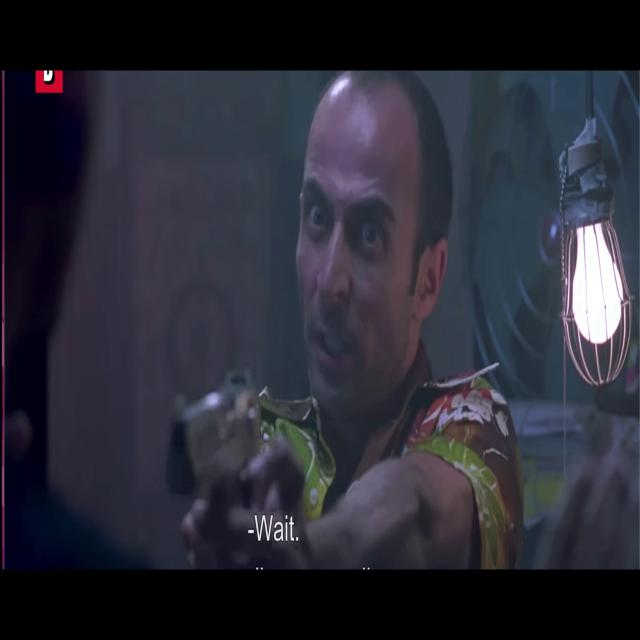weapons: (158, 330, 294, 510)
